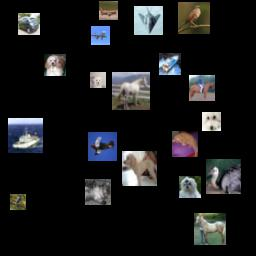airplane: (88, 132, 117, 161), (134, 6, 163, 35), (99, 1, 118, 20), (91, 26, 110, 45)
automobile: (18, 13, 40, 35)
bird: (206, 159, 241, 194), (178, 2, 210, 34), (10, 194, 26, 210)
cat: (85, 179, 111, 205), (172, 131, 198, 157)
dog: (122, 151, 157, 186), (44, 54, 66, 76), (179, 176, 201, 198), (202, 112, 221, 131), (90, 72, 106, 88)
ship: (8, 118, 43, 153), (159, 53, 181, 75)
